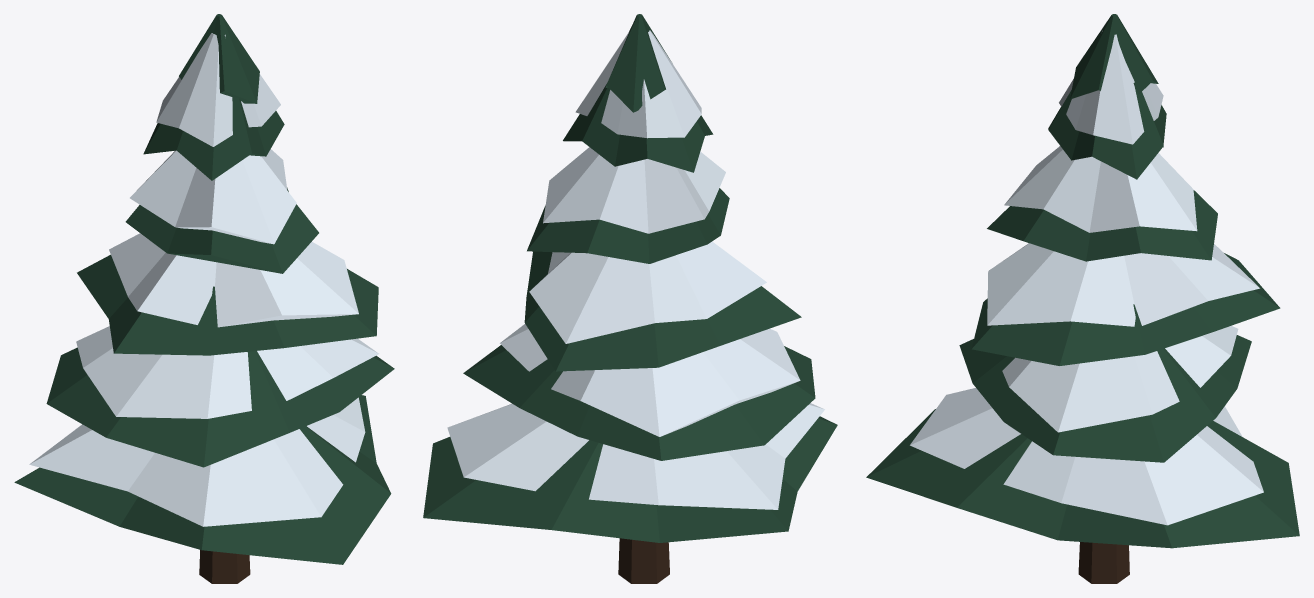
File: Tree_Pine_A.fbx
3 renders of one model, left to right at view 1: azimuth 30°, elevation 25°; view 2: azimuth 150°, elevation 25°; view 3: azimuth 270°, elevation 25°, orthographic.
Parts seen in each view (by area): view 1: Tree_Pine_A; view 2: Tree_Pine_A; view 3: Tree_Pine_A.
Boxes of the visible parts, left/top/right/bottom form: Tree_Pine_A: left=14, top=14, right=394, bottom=583; Tree_Pine_A: left=423, top=14, right=837, bottom=583; Tree_Pine_A: left=866, top=14, right=1299, bottom=583.
Bounding box in the file's own units: 413 × 624 × 439.
